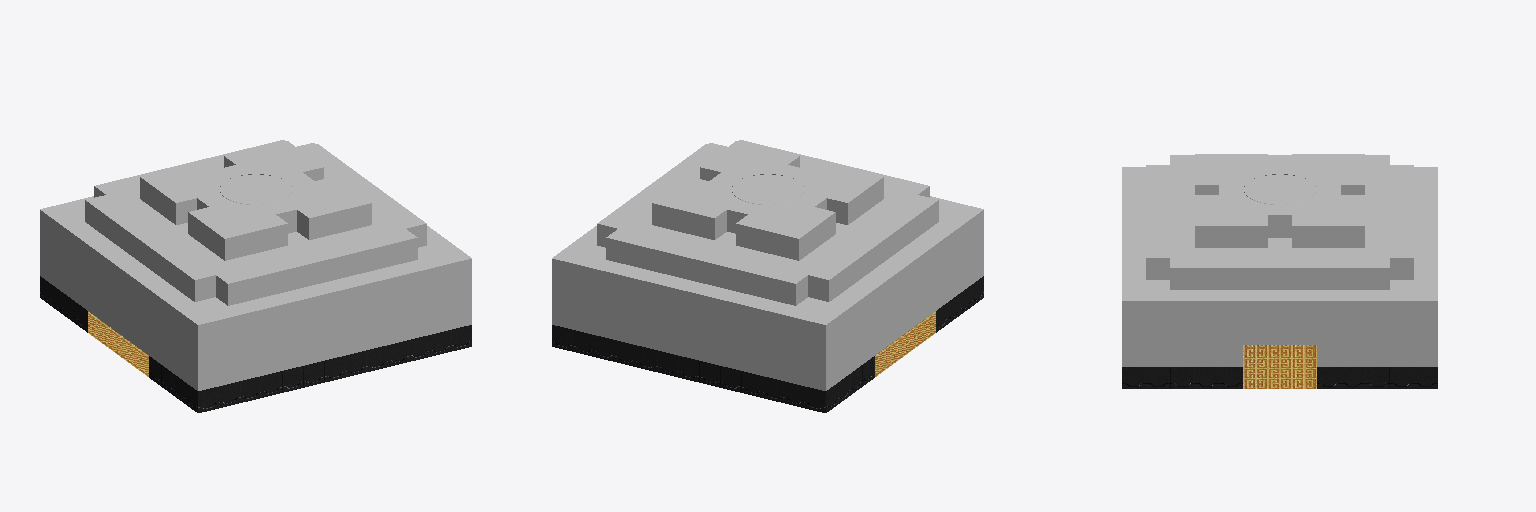
The picture shows the model from 3 angles: view 1: azimuth 30°, elevation 25°; view 2: azimuth 150°, elevation 25°; view 3: azimuth 270°, elevation 25°; orthographic projection.
Parts seen in each view (by area): view 1: main, main_wall, main_floor; view 2: main, main_wall, main_floor; view 3: main, main_wall, main_floor.
Boxes of the visible parts, x1,y1,x2,y2 form: main: [40, 140, 471, 390]; main_wall: [40, 276, 471, 412]; main_floor: [88, 311, 148, 376]; main: [552, 140, 983, 390]; main_wall: [552, 276, 983, 412]; main_floor: [875, 311, 935, 376]; main: [1122, 154, 1437, 366]; main_wall: [1122, 367, 1437, 388]; main_floor: [1243, 345, 1316, 388].
Bounding box in the file's own units: 260 × 121 × 260.
5 materials, 2 textured.